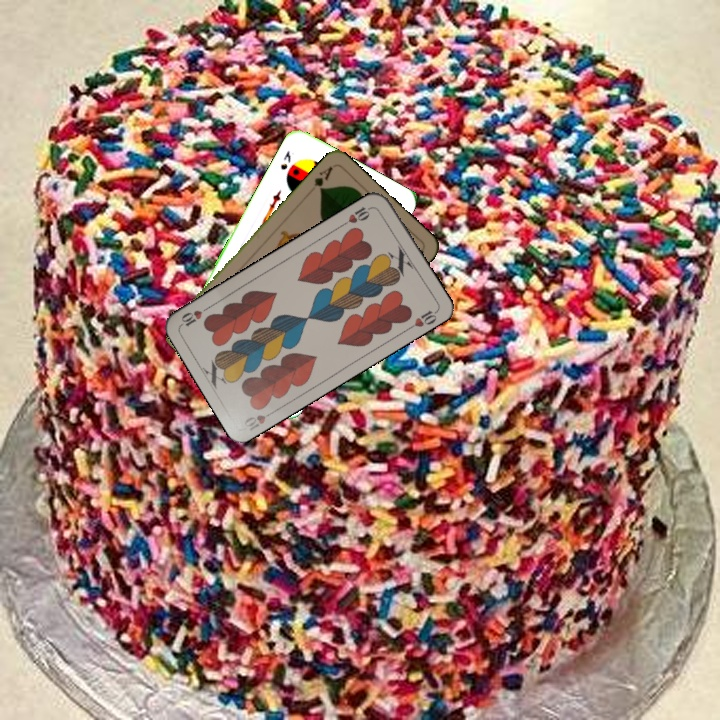GA: (310, 162, 336, 194)
H10: (240, 406, 279, 434), (338, 202, 375, 228)
SK: (276, 147, 294, 172)
